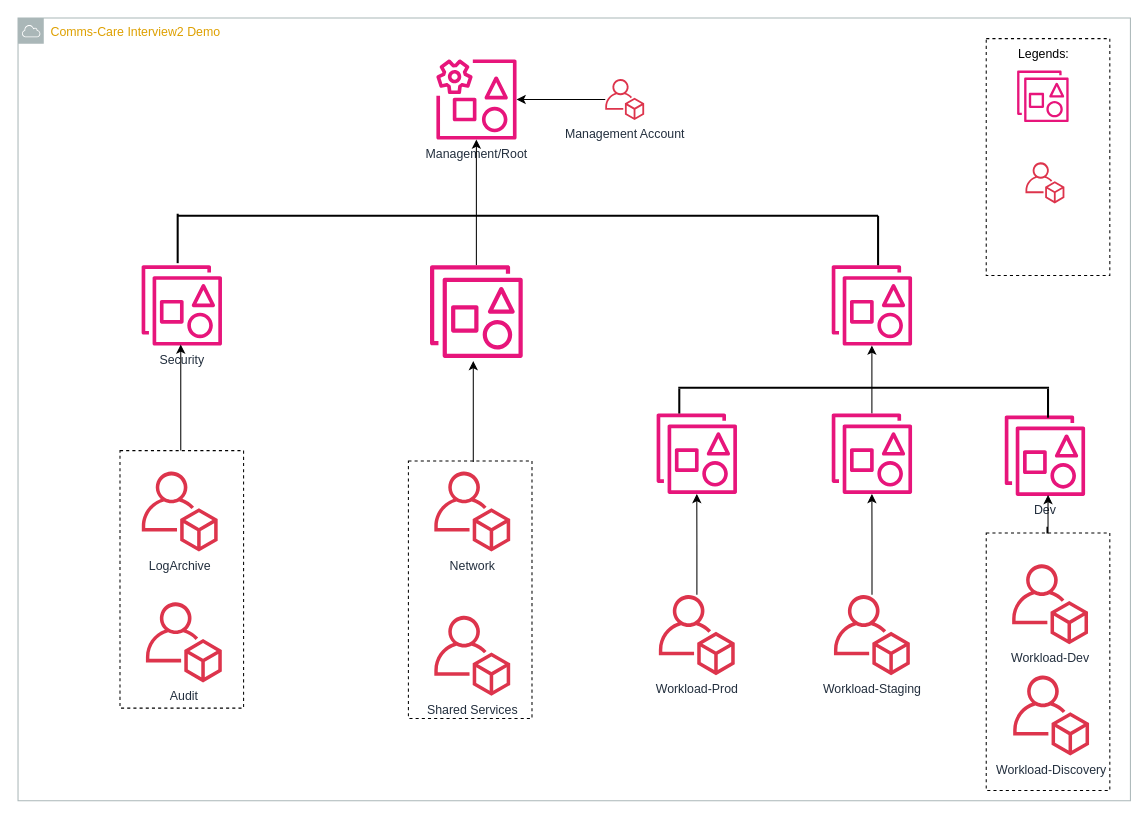
This 1148x819 diagram has some shape labels left out. Each missing label, with the box of its shape:
Account: (1025, 162, 1064, 203)
Infrastructure: (430, 265, 522, 357)
OU: (1017, 70, 1068, 122)
Prod: (656, 413, 736, 493)
Staging: (831, 413, 912, 493)
Workloads: (831, 265, 912, 345)
